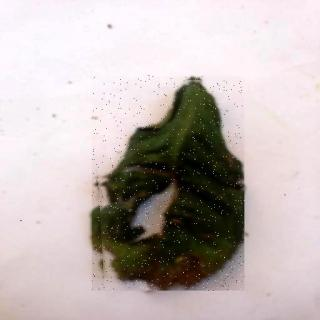Brown Blight: (93, 77, 245, 292)
